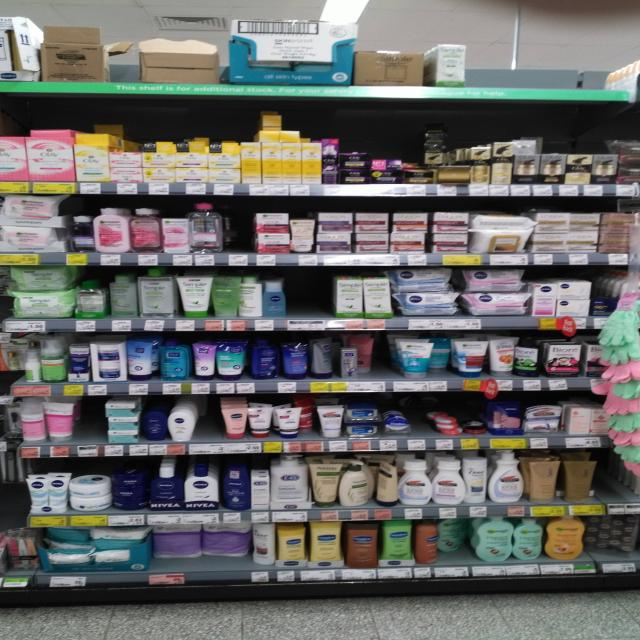unorganised: (150, 525, 251, 560), (338, 458, 375, 506), (374, 455, 400, 509), (436, 519, 467, 554), (251, 522, 276, 564), (353, 335, 375, 373), (429, 412, 459, 430)
